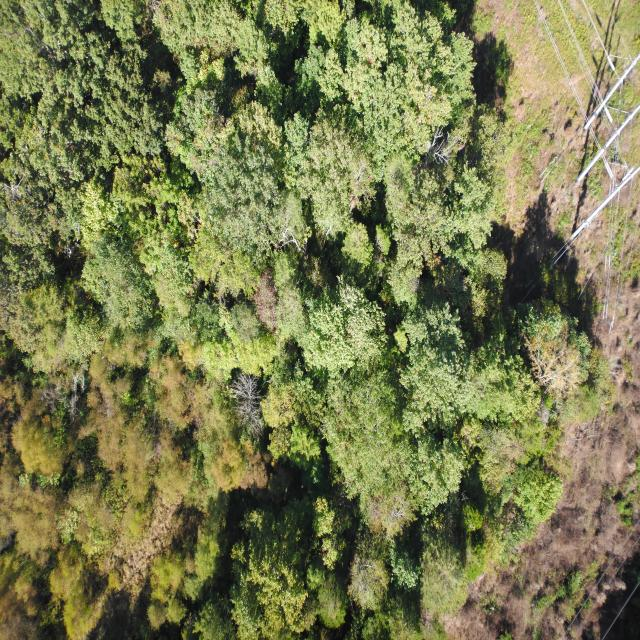Area of Interest: (5, 11, 601, 633)
